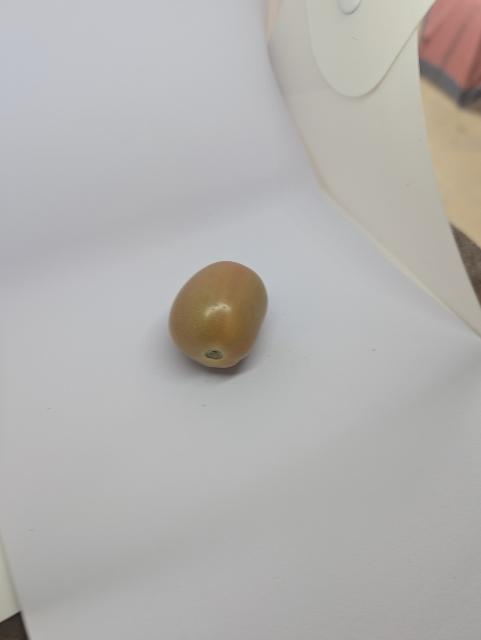turning: (168, 256, 274, 379)
